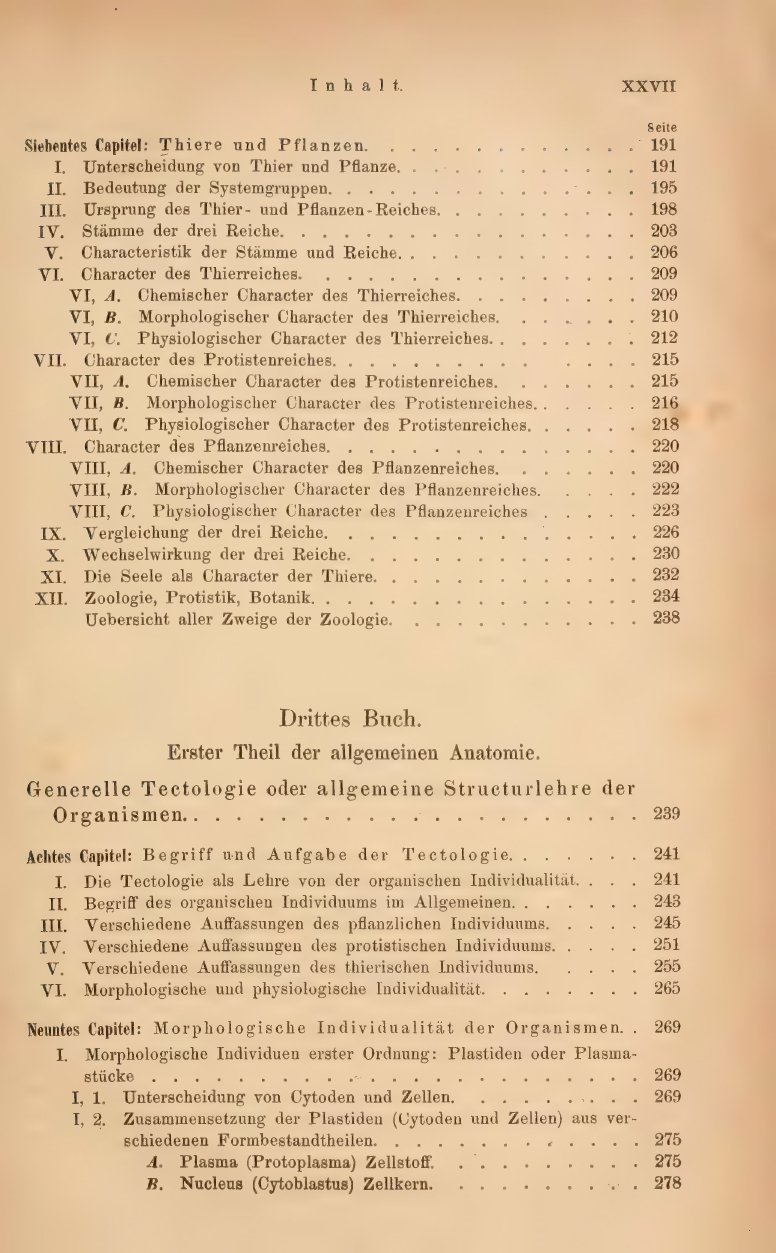NumberingZone_page: (605, 70, 686, 101)
RunningTitleZone: (288, 65, 417, 103)
TableZone: (13, 122, 705, 1210)
